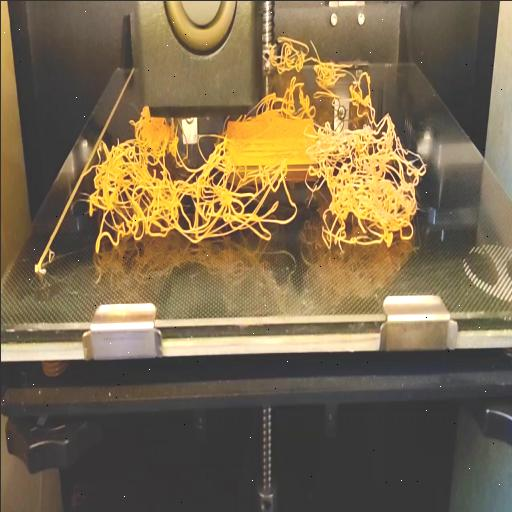spaghetti: (83, 105, 423, 249), (262, 26, 378, 116)
